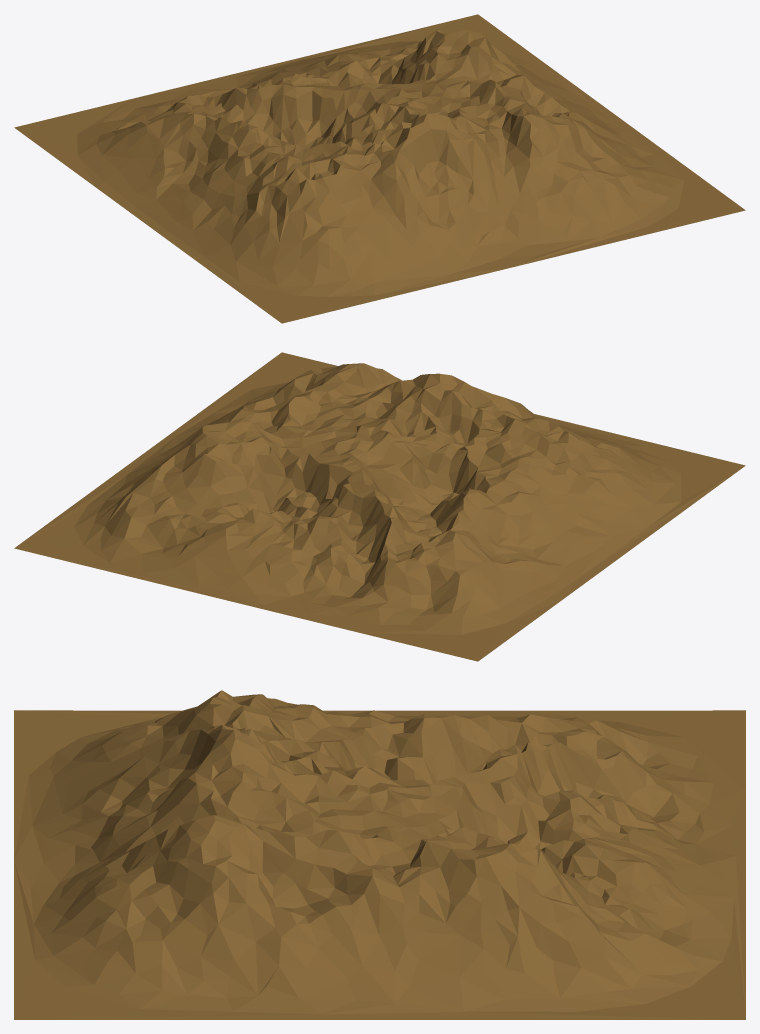
File: Terrain_20.fbx
3 renders of one model, top to bottom at view 1: azimuth 30°, elevation 25°; view 2: azimuth 150°, elevation 25°; view 3: azimuth 270°, elevation 25°, orthographic. The views are drawn at different scales.
Parts seen in each view (by area): view 1: Terrain_20; view 2: Terrain_20; view 3: Terrain_20.
Part boxes in pixels (<box>): Terrain_20: <box>14,14,745,323</box>; Terrain_20: <box>14,352,745,661</box>; Terrain_20: <box>14,690,745,1019</box>.
Bounding box in the file's own units: 20000 × 3946 × 20000.
